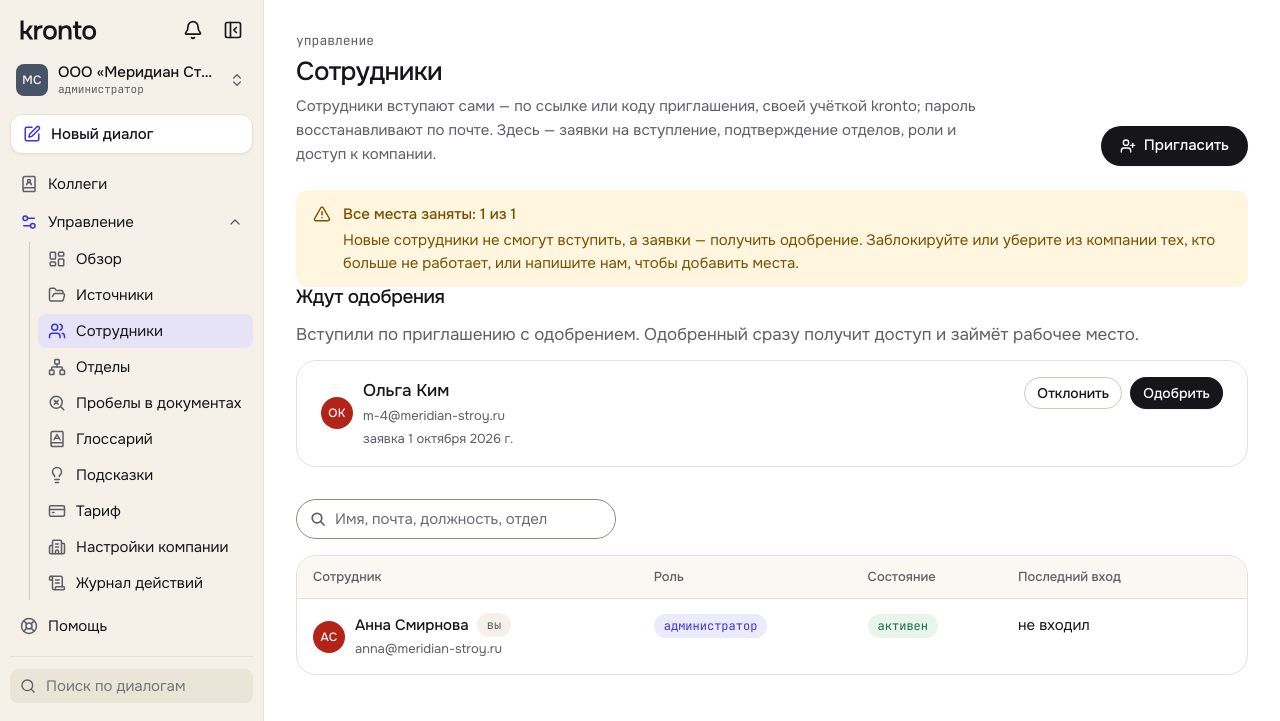
Test case: заявки на вступление › без свободных мест одобрить нельзя — ответ сервера виден
Step 1. Click the button "Одобрить" → (1177,393), box [1130, 377, 1223, 409]
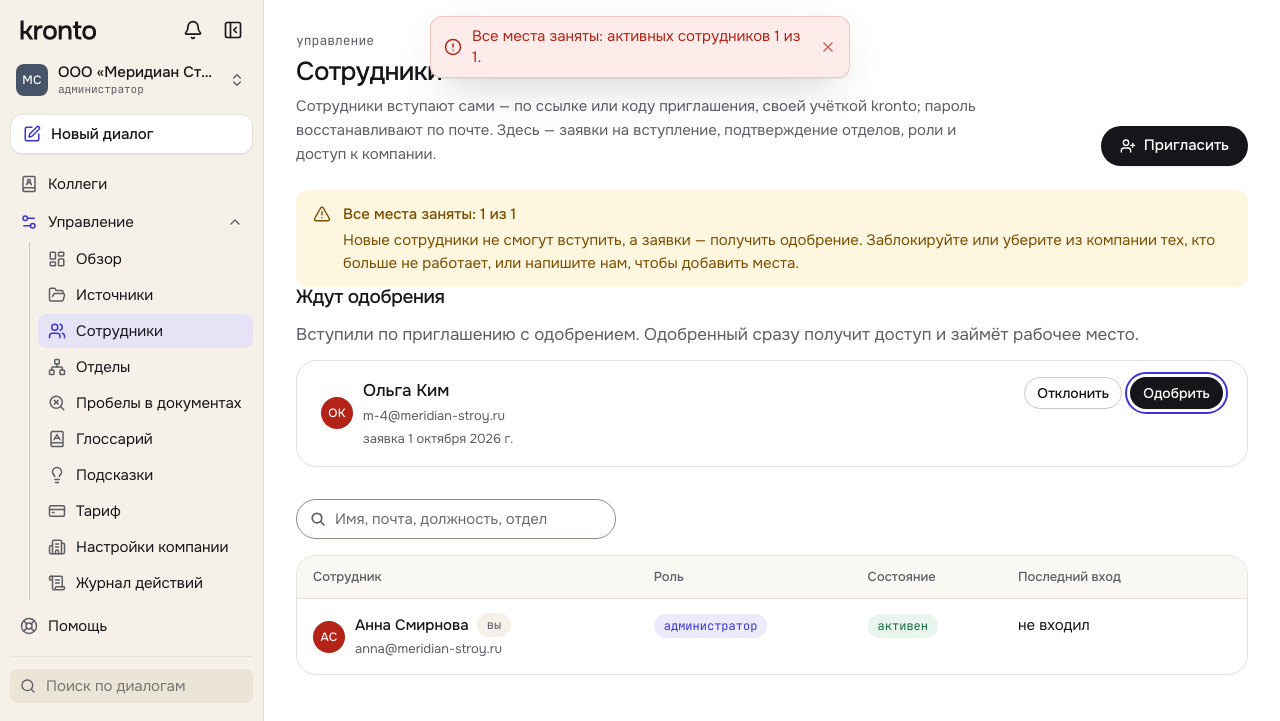
Check: the text "Все места заняты: активных сотрудников 1 из 1." is shown, box [472, 26, 804, 68]
